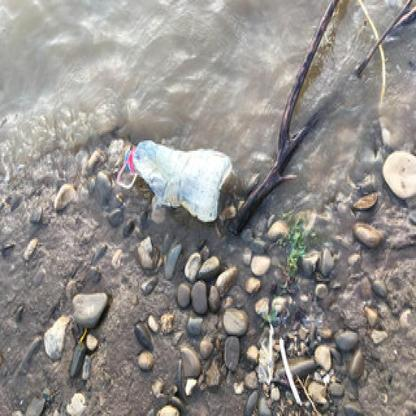plastic bottle: (116, 139, 232, 223)
